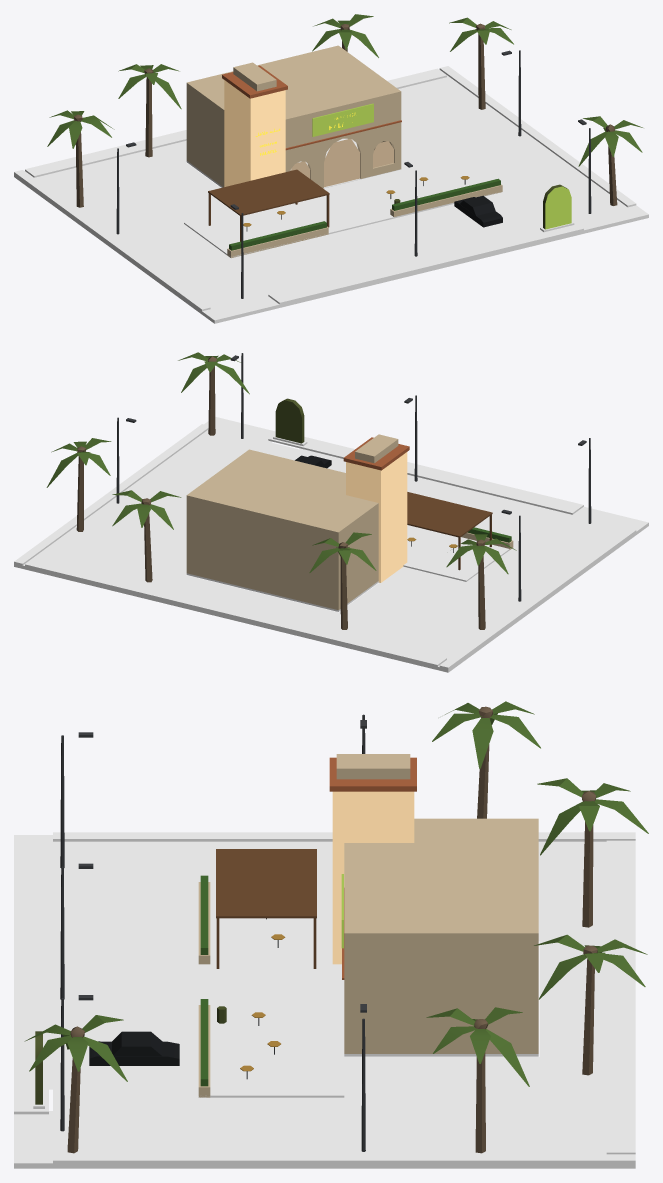
File: operation_falafel_lod2.glb
3 views of the same model, one above another, from view 1: azimuth 30°, elevation 25°; view 2: azimuth 150°, elevation 25°; view 3: azimuth 270°, elevation 25° (orthographic). The views are drawn at different scales.
Visible parts, largest first — view 1: OPF_LOD2_Ground, OPF_LOD2_Building, OPF_LOD2_Furniture, OPF_LOD2_Landscape, OPF_LOD2_Glass, OPF_LOD2_LampPosts, OPF_LOD2_Totem, OPF_LOD2_Vehicles; view 2: OPF_LOD2_Ground, OPF_LOD2_Building, OPF_LOD2_Landscape, OPF_LOD2_Furniture, OPF_LOD2_LampPosts, OPF_LOD2_Totem; view 3: OPF_LOD2_Ground, OPF_LOD2_Building, OPF_LOD2_Landscape, OPF_LOD2_Furniture, OPF_LOD2_LampPosts, OPF_LOD2_Vehicles.
Part boxes in pixels (x1,y1,x2,y2): OPF_LOD2_Ground: (14,66,648,323); OPF_LOD2_Building: (186,45,401,188); OPF_LOD2_Furniture: (208,169,502,258); OPF_LOD2_Landscape: (47,14,642,207); OPF_LOD2_Glass: (290,139,393,187); OPF_LOD2_LampPosts: (116,50,591,298); OPF_LOD2_Totem: (540,184,574,232); OPF_LOD2_Vehicles: (454,195,502,227); OPF_LOD2_Ground: (14,417,648,672); OPF_LOD2_Building: (186,434,409,611); OPF_LOD2_Landscape: (46,352,516,629); OPF_LOD2_Furniture: (407,492,513,570); OPF_LOD2_LampPosts: (116,353,591,601); OPF_LOD2_Totem: (273,398,307,446); OPF_LOD2_Ground: (14,832,635,1168); OPF_LOD2_Building: (329,754,538,1056); OPF_LOD2_Landscape: (24,701,648,1153); OPF_LOD2_Furniture: (198,849,316,1097); OPF_LOD2_LampPosts: (60,714,366,1151); OPF_LOD2_Vehicles: (89,1031,179,1065).
Size of what is drawn, in the model's own units: 42.71 by 11.2 by 32.68.
